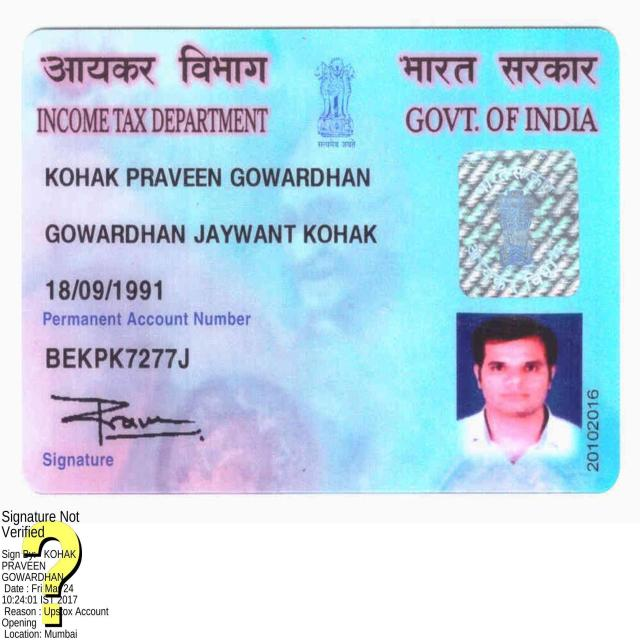pan_card: (26, 35, 611, 488)
